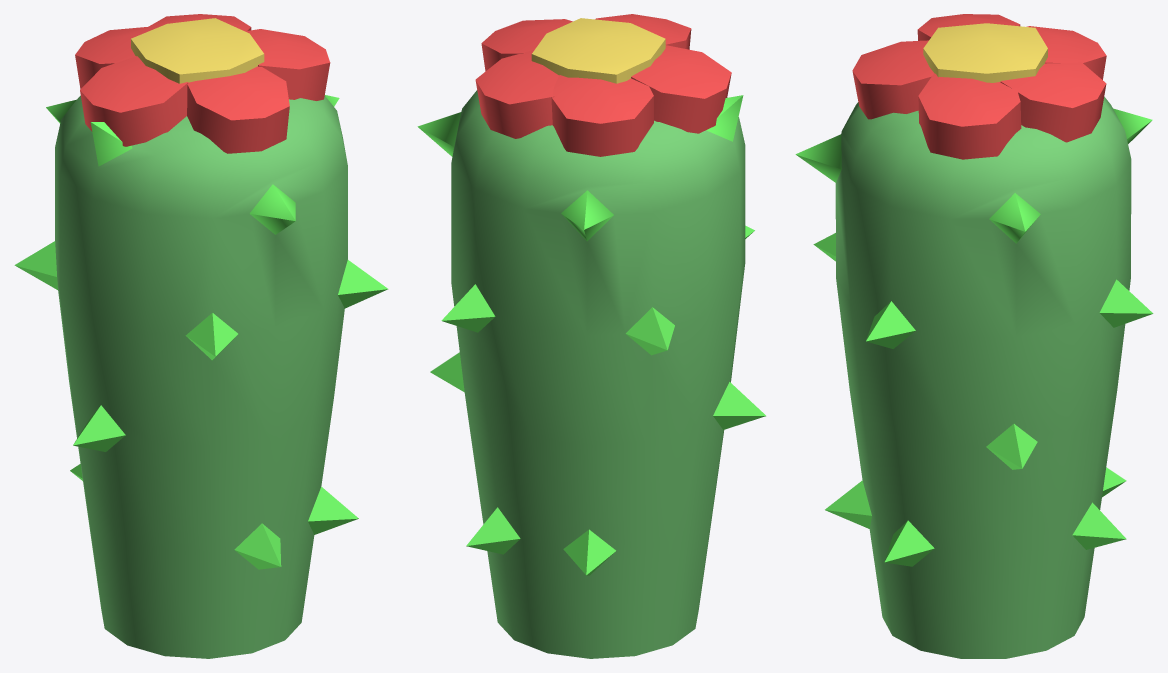
File: Cactus002.fbx
The picture shows the model from 3 angles, left to right: view 1: azimuth 30°, elevation 25°; view 2: azimuth 150°, elevation 25°; view 3: azimuth 270°, elevation 25°; orthographic projection.
Parts seen in each view (by area): view 1: Cactus002; view 2: Cactus002; view 3: Cactus002.
Part boxes in pixels (<box>): Cactus002: <box>14,14,388,658</box>; Cactus002: <box>417,14,765,658</box>; Cactus002: <box>795,14,1153,658</box>.
Size of the model in its own units: 65.35 by 118 by 66.11.
